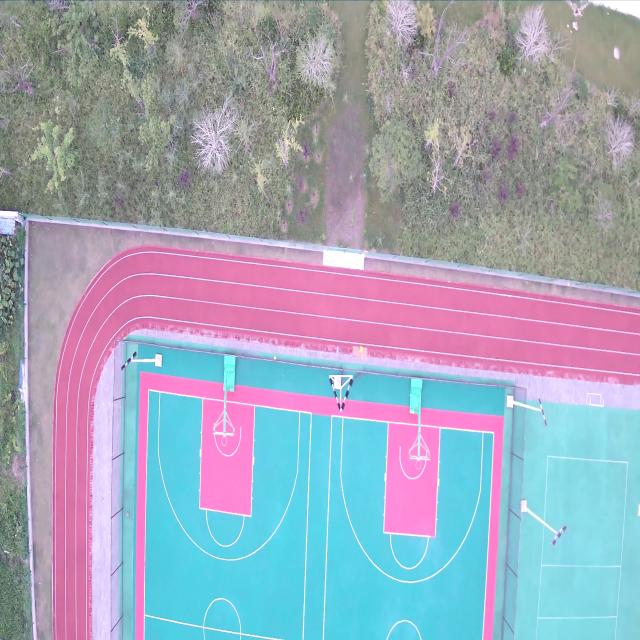UAV: (332, 344, 342, 360)
